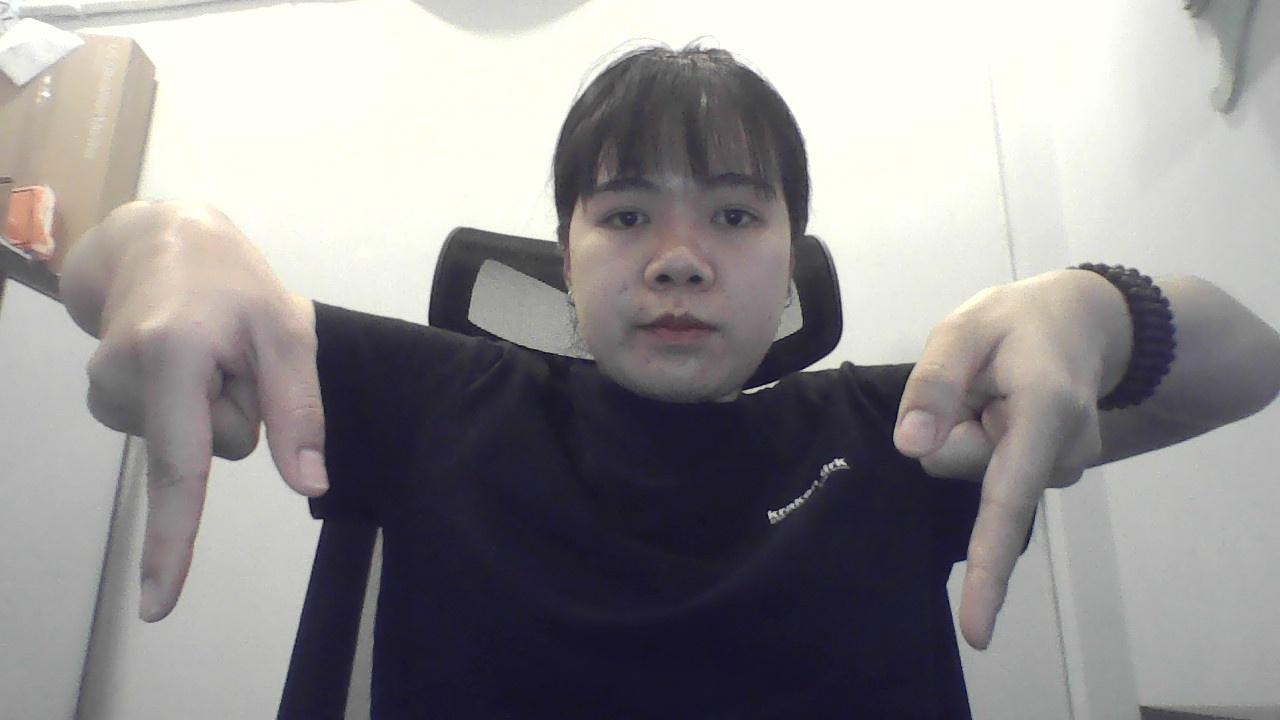Q: (84, 237, 342, 650), (879, 237, 1115, 662)
